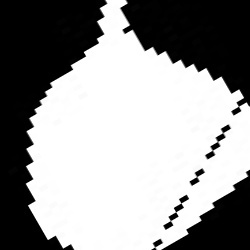spot: (26, 1, 248, 249)
